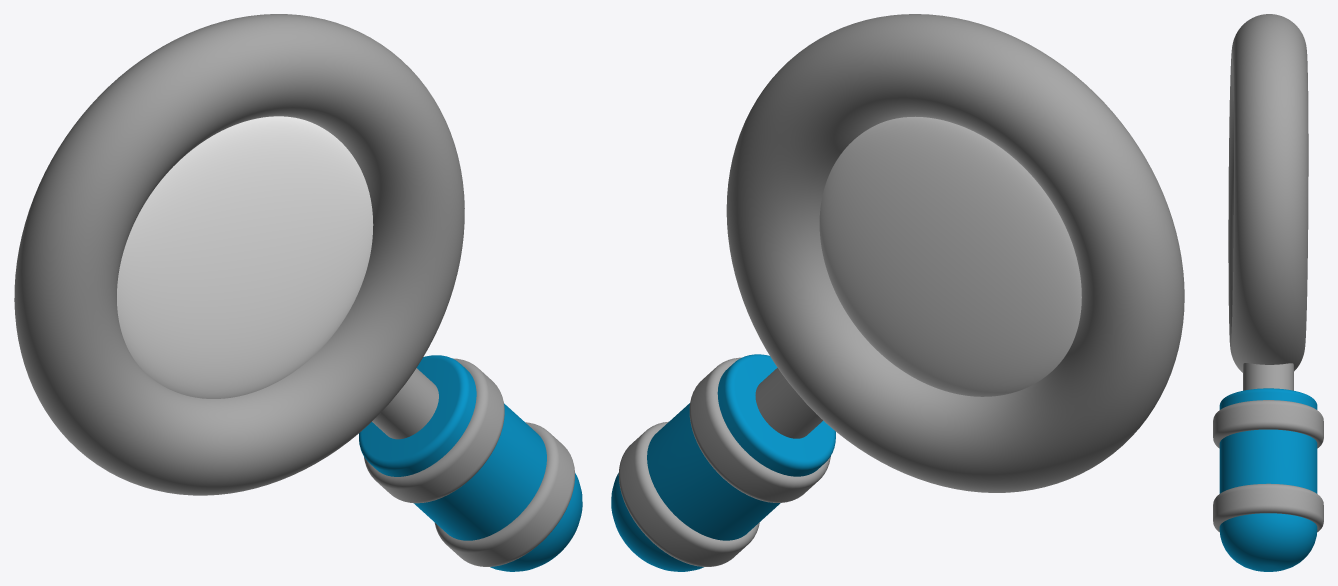
File: search-3d-animated-icon-1271258216654.glb
3 views of the same model, side by side, from view 1: azimuth 30°, elevation 25°; view 2: azimuth 150°, elevation 25°; view 3: azimuth 270°, elevation 25° (orthographic). The views are drawn at different scales.
Visible parts, largest first — view 1: Circle, Sphere, Cylinder.011, Cylinder.013, Cylinder.014, Cylinder.012; view 2: Circle, Sphere, Cylinder.011, Cylinder.013, Cylinder.014, Cylinder.012; view 3: Circle, Cylinder.011, Cylinder.014, Cylinder.013, Cylinder.012.
Boxes of the visible parts, bbox=[...] form: Circle: bbox=[14, 14, 464, 495]; Sphere: bbox=[117, 116, 373, 398]; Cylinder.011: bbox=[359, 355, 582, 571]; Cylinder.013: bbox=[364, 358, 504, 503]; Cylinder.014: bbox=[434, 422, 574, 566]; Cylinder.012: bbox=[372, 368, 438, 439]; Circle: bbox=[726, 14, 1184, 492]; Sphere: bbox=[819, 116, 1081, 396]; Cylinder.011: bbox=[611, 354, 835, 571]; Cylinder.013: bbox=[689, 357, 830, 502]; Cylinder.014: bbox=[618, 421, 759, 566]; Cylinder.012: bbox=[755, 368, 822, 438]; Circle: bbox=[1228, 14, 1308, 372]; Cylinder.011: bbox=[1219, 388, 1317, 571]; Cylinder.014: bbox=[1213, 483, 1323, 532]; Cylinder.013: bbox=[1213, 400, 1323, 448]; Cylinder.012: bbox=[1243, 363, 1293, 390].
Size of the model in its own units: 1.59 by 1.67 by 0.3805.
